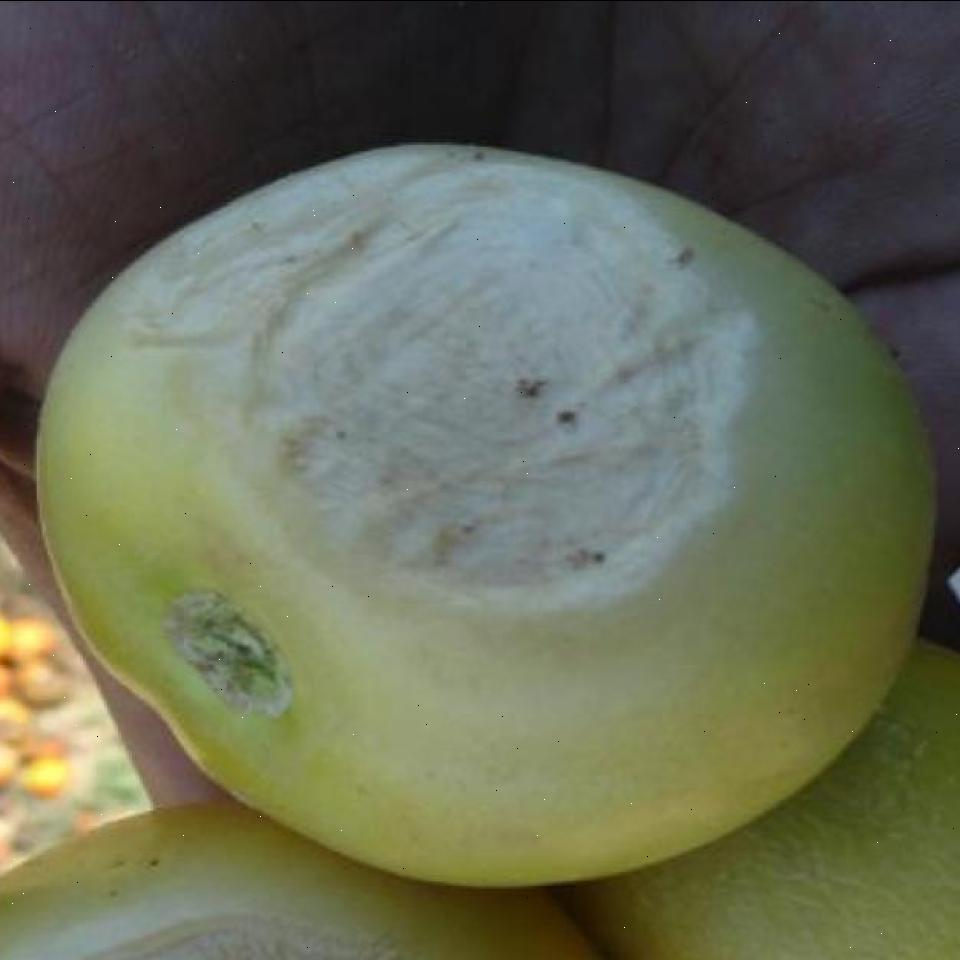Sunscald: (96, 118, 783, 632), (3, 872, 455, 960)
